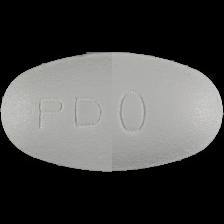42254-267: (0, 0, 224, 224)
